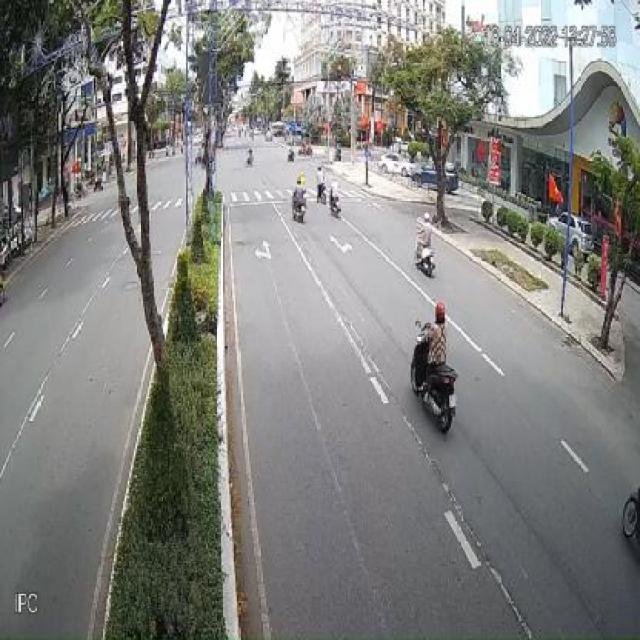motorbike: (411, 303, 460, 434), (621, 485, 640, 577), (415, 233, 436, 277), (292, 175, 306, 222), (328, 185, 339, 219), (317, 177, 326, 205)
